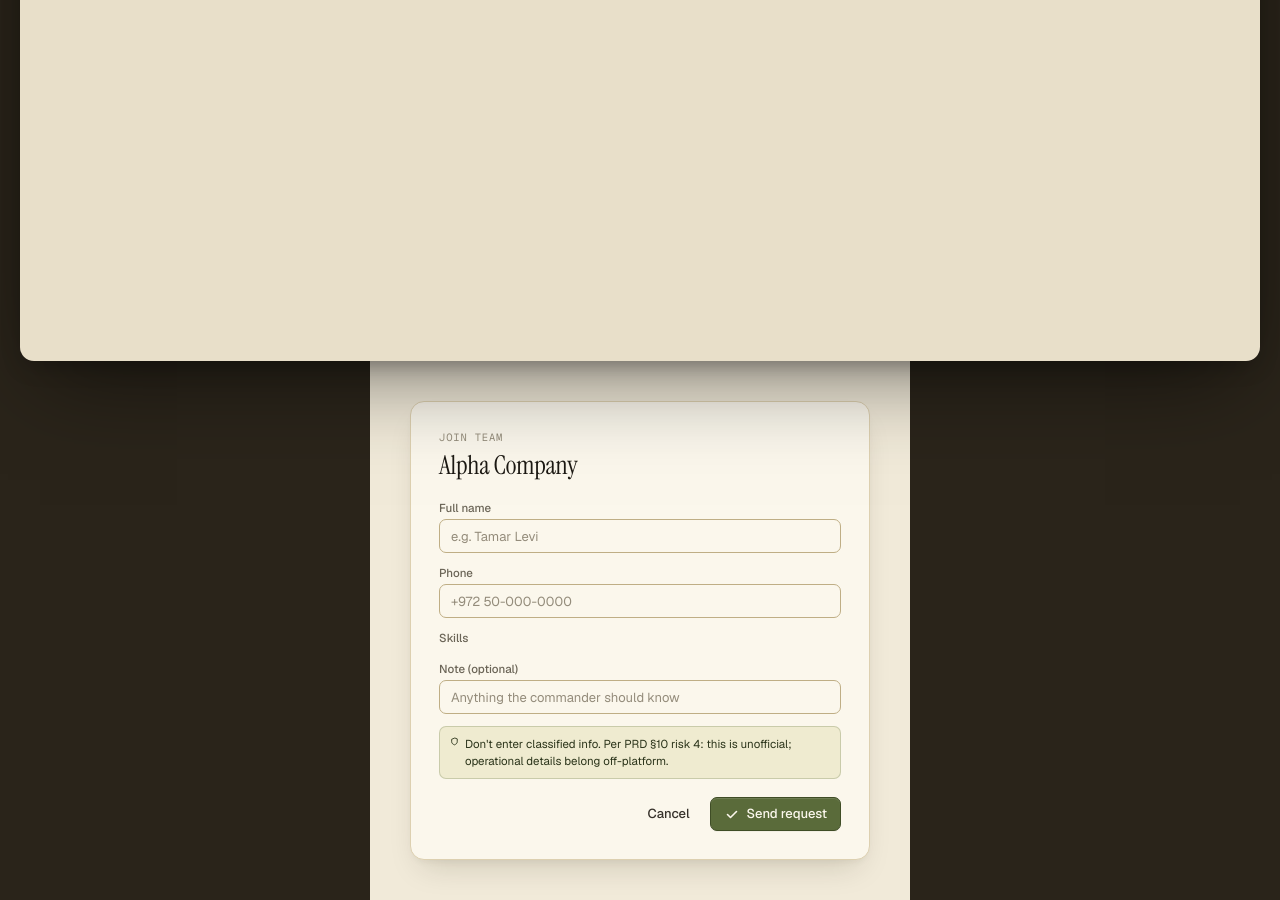
it: JoinScreen › shows an inline hint and keeps Send request disabled when phone fails E.164 validation
(page scrolled)
Type "Tamar Levi" into the field with placeholder "e.g. Tamar Levi".
click(640, 536); type("Tamar Levi")  # box [439,519,841,553]
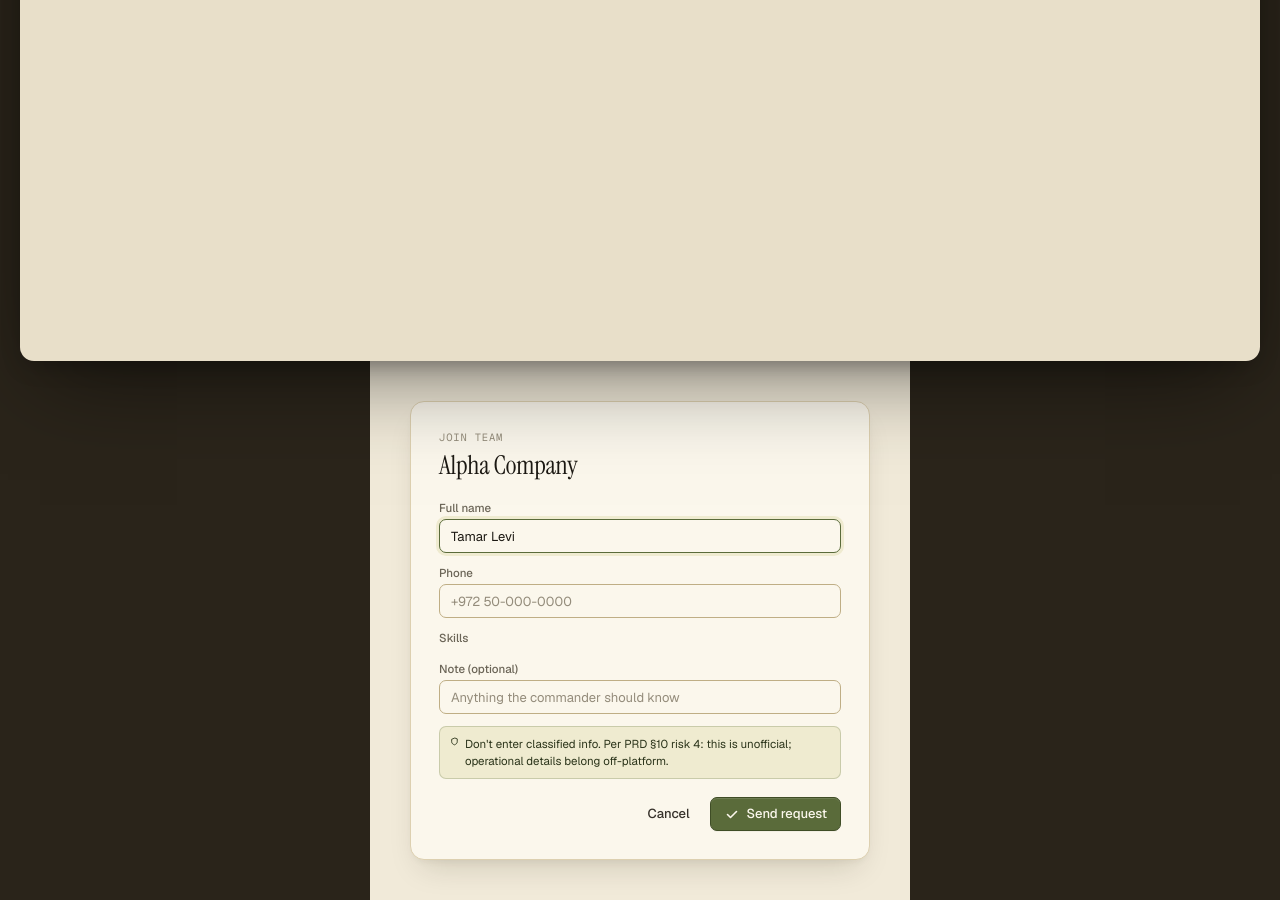
Type "not-a-phone" into the field with placeholder "+972 50-000-0000".
click(640, 601); type("not-a-phone")  # box [439,584,841,618]
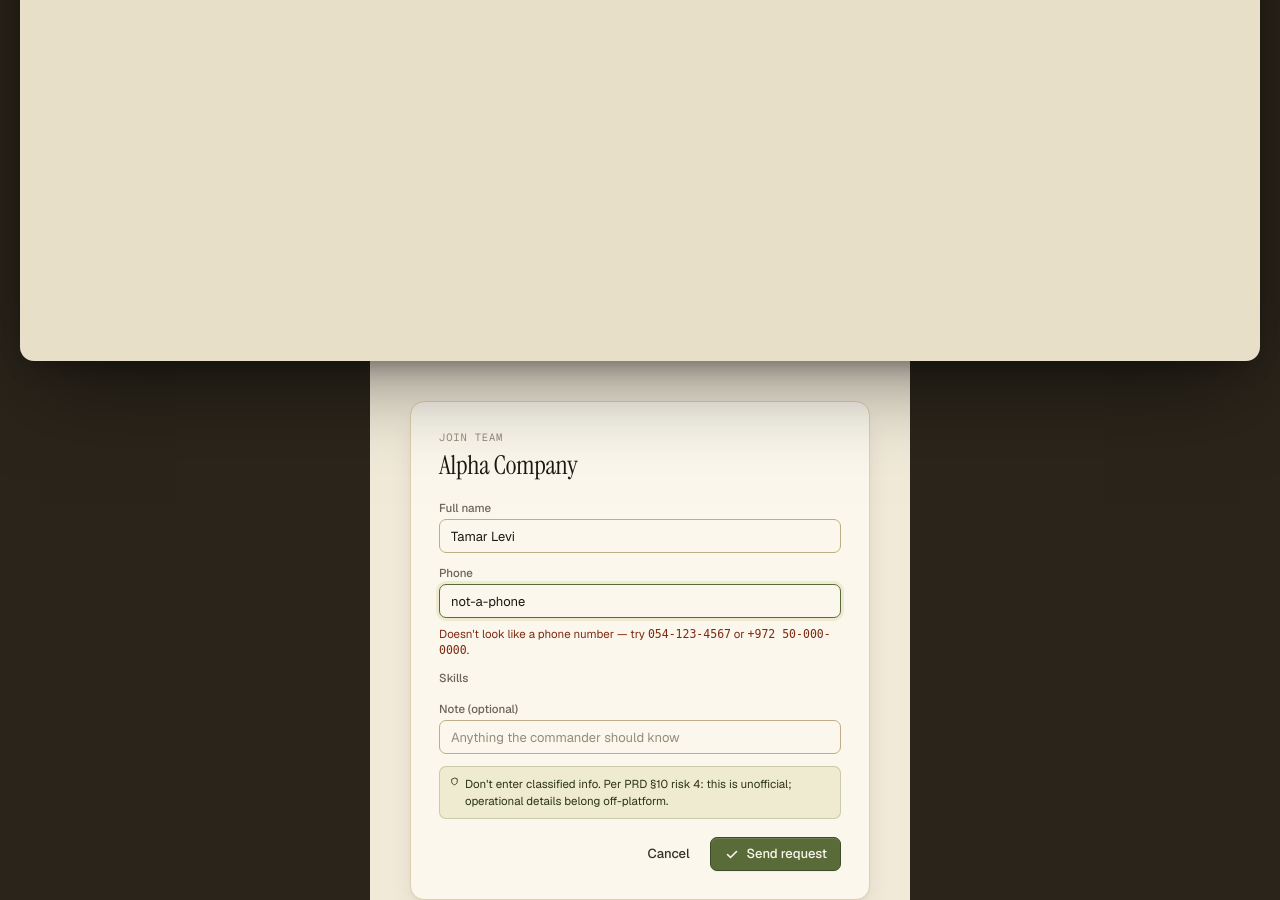
Check: the button "Send request" is disabled, box [710,837,841,871]
Check: the element with test id "phone-hint" is shown, box [439,626,841,658]
